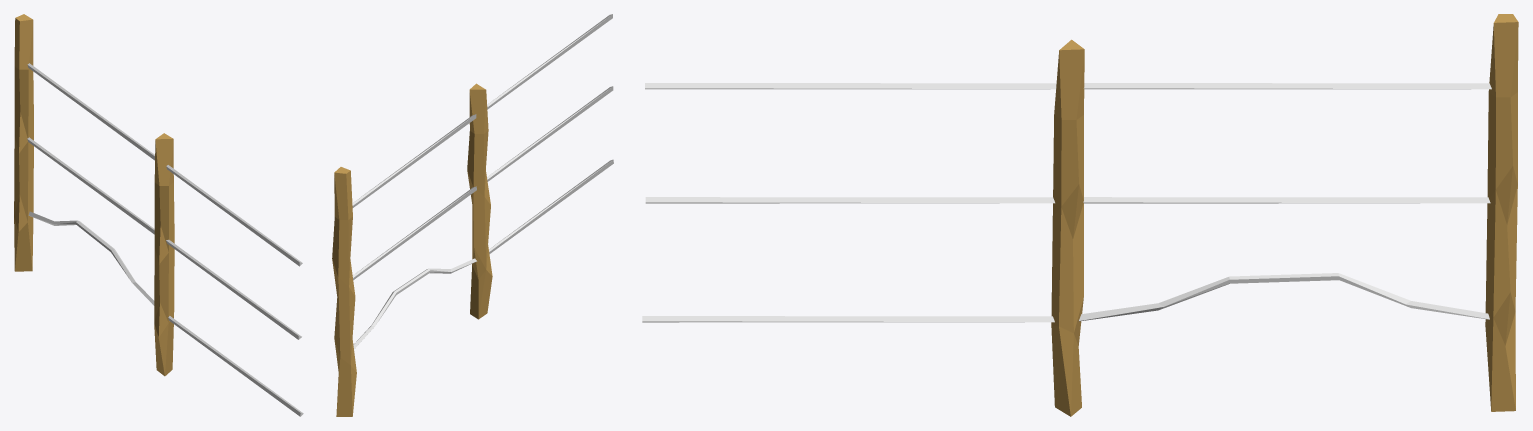
The model's file is fencebent.fbx.
3 views of the same model, side by side, from view 1: azimuth 30°, elevation 25°; view 2: azimuth 150°, elevation 25°; view 3: azimuth 270°, elevation 25° (orthographic). The views are drawn at different scales.
Visible parts, largest first — view 1: Cylinder.002, Cylinder, Cylinder.007, Cylinder.006, Cylinder.005, Cylinder.004, Cylinder.003, Cylinder.001; view 2: Cylinder.002, Cylinder, Cylinder.006, Cylinder.004, Cylinder.007, Cylinder.005, Cylinder.001, Cylinder.003; view 3: Cylinder.002, Cylinder, Cylinder.004, Cylinder.005, Cylinder.007, Cylinder.006, Cylinder.001, Cylinder.003.
Boxes of the visible parts, x1,y1,x2,y2 form: Cylinder.002: (14, 14, 33, 271); Cylinder: (154, 133, 174, 376); Cylinder.007: (166, 165, 302, 266); Cylinder.006: (166, 239, 301, 339); Cylinder.005: (168, 316, 303, 416); Cylinder.004: (28, 211, 154, 305); Cylinder.003: (27, 137, 154, 234); Cylinder.001: (27, 63, 154, 160); Cylinder.002: (332, 167, 356, 416); Cylinder: (467, 83, 492, 319); Cylinder.006: (487, 86, 613, 181); Cylinder.004: (353, 258, 476, 349); Cylinder.007: (487, 14, 612, 109); Cylinder.005: (489, 159, 613, 253); Cylinder.001: (352, 114, 476, 207); Cylinder.003: (352, 186, 476, 279); Cylinder.002: (1485, 14, 1518, 411); Cylinder: (1051, 39, 1084, 416); Cylinder.004: (1079, 273, 1489, 321); Cylinder.005: (642, 316, 1054, 322); Cylinder.007: (645, 83, 1056, 89); Cylinder.006: (645, 197, 1054, 203); Cylinder.001: (1084, 83, 1491, 89); Cylinder.003: (1083, 197, 1490, 203).
Bounding box in the file's own units: 159 × 1975 × 4007.
